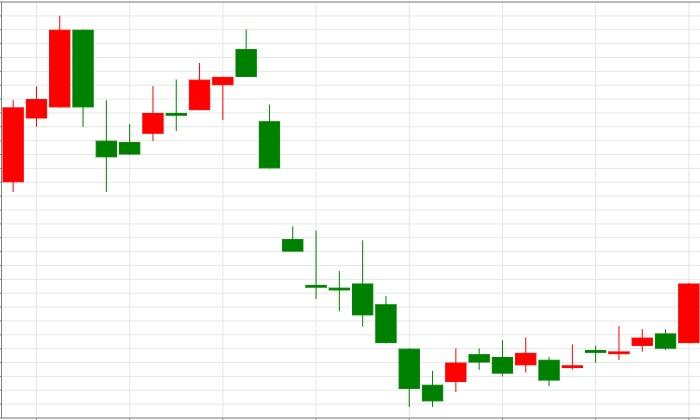morning_star_rise: (236, 28, 467, 407)
